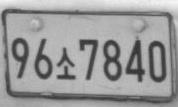0: (147, 39, 167, 83)
4: (124, 39, 146, 83)
6: (33, 38, 53, 80)
7: (78, 38, 99, 81)
8: (102, 38, 122, 81)
9: (10, 36, 30, 79)
소: (56, 46, 76, 80)
